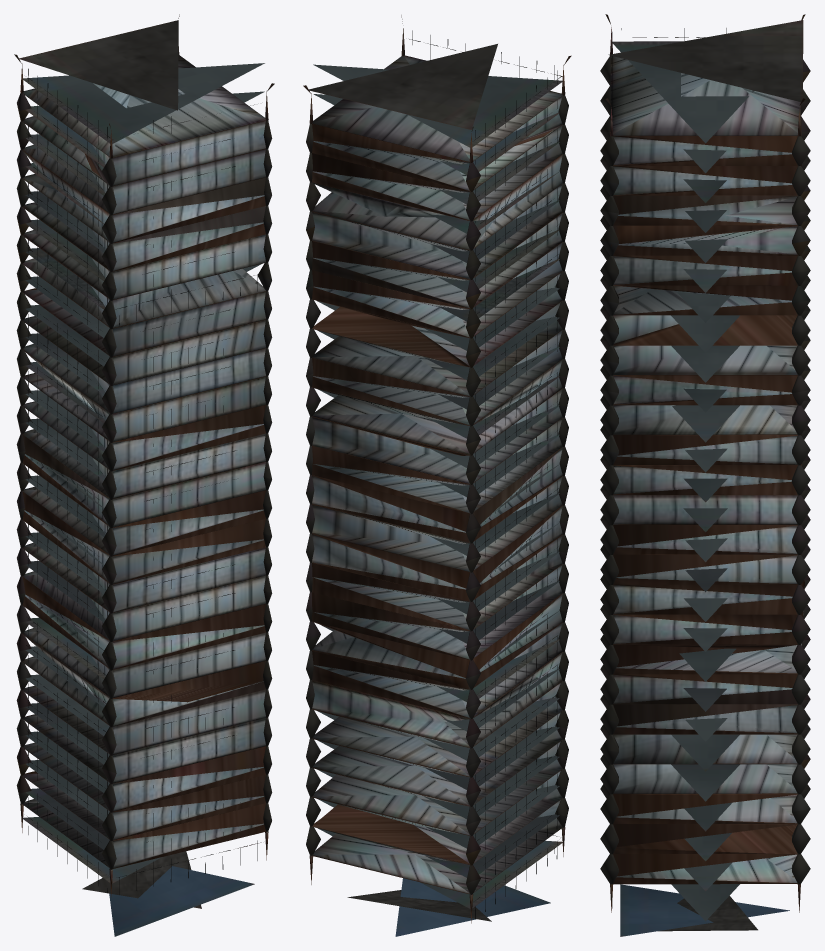
The model's file is city_tower_5.glb.
The picture shows the model from 3 angles, left to right: view 1: azimuth 30°, elevation 25°; view 2: azimuth 150°, elevation 25°; view 3: azimuth 270°, elevation 25°; orthographic projection. The views are drawn at different scales.
Visible parts, largest first — view 1: CityTower5; view 2: CityTower5; view 3: CityTower5.
Part boxes in pixels (x1,y1,x2,y2): CityTower5: (14, 14, 274, 936); CityTower5: (303, 15, 571, 936); CityTower5: (600, 14, 810, 936).
Bounding box in the file's own units: 26.34 × 101 × 22.28.
Materials: 1 (1 with a texture image).
